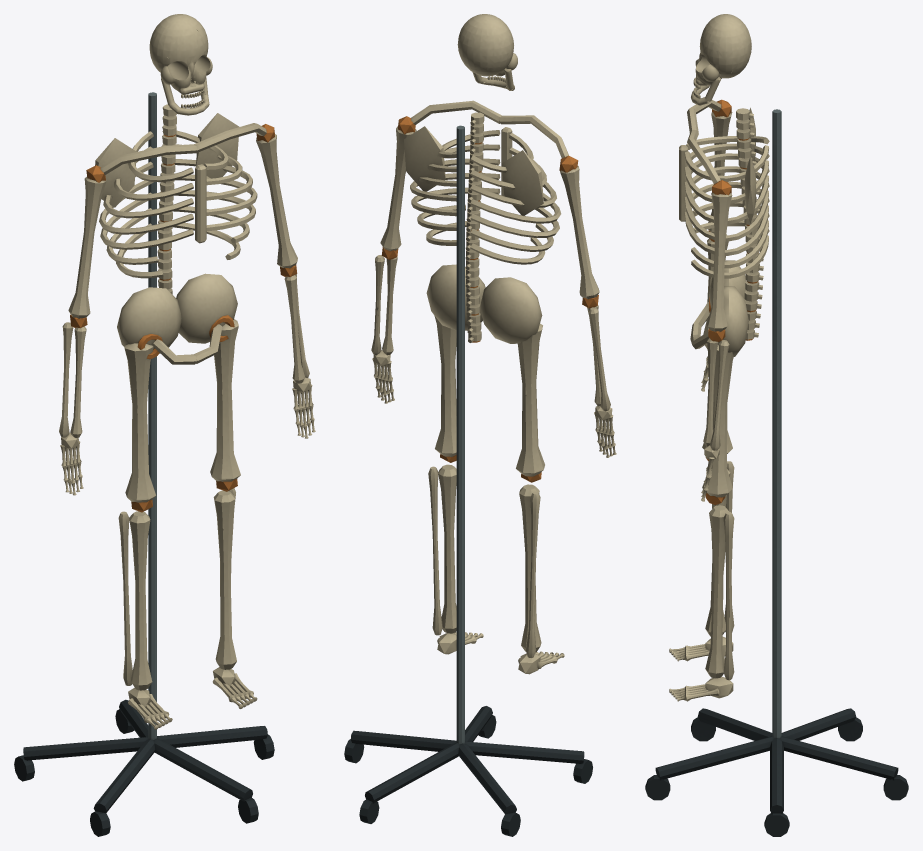
The model's file is skeleton.obj.
3 renders of one model, left to right at view 1: azimuth 30°, elevation 25°; view 2: azimuth 150°, elevation 25°; view 3: azimuth 270°, elevation 25°, orthographic. The views are drawn at different scales.
Visible parts, largest first — view 1: skeleton_torso_10, skeleton_static_0, skeleton_pelvis_9, skeleton_head_20, skeleton_shin_left_7, skeleton_thigh_left_6, skeleton_thigh_right_14, skeleton_shin_right_15, skeleton_upper_arm_left_11, skeleton_upper_arm_right_17, skeleton_forearm_left_12, skeleton_forearm_right_18 (+4 smaller); view 2: skeleton_torso_10, skeleton_static_0, skeleton_pelvis_9, skeleton_shin_right_15, skeleton_head_20, skeleton_thigh_left_6, skeleton_shin_left_7, skeleton_thigh_right_14, skeleton_upper_arm_left_11, skeleton_upper_arm_right_17, skeleton_forearm_right_18, skeleton_forearm_left_12 (+4 smaller); view 3: skeleton_static_0, skeleton_torso_10, skeleton_shin_right_15, skeleton_head_20, skeleton_pelvis_9, skeleton_upper_arm_right_17, skeleton_thigh_right_14, skeleton_forearm_right_18, skeleton_foot_right_16, skeleton_upper_arm_left_11, skeleton_shin_left_7, skeleton_foot_left_8 (+3 smaller).
Boxes of the visible parts, <box> form: skeleton_torso_10: <box>95,104,266,289</box>; skeleton_static_0: <box>23,92,267,813</box>; skeleton_pelvis_9: <box>117,273,237,364</box>; skeleton_head_20: <box>149,14,212,115</box>; skeleton_shin_left_7: <box>118,499,152,690</box>; skeleton_thigh_left_6: <box>124,343,155,502</box>; skeleton_thigh_right_14: <box>210,319,240,481</box>; skeleton_shin_right_15: <box>213,479,237,669</box>; skeleton_upper_arm_left_11: <box>68,165,106,318</box>; skeleton_upper_arm_right_17: <box>256,124,297,268</box>; skeleton_forearm_left_12: <box>59,314,87,437</box>; skeleton_forearm_right_18: <box>280,264,309,383</box>; skeleton_torso_10: <box>404,100,568,297</box>; skeleton_static_0: <box>351,125,584,814</box>; skeleton_pelvis_9: <box>426,264,542,343</box>; skeleton_shin_right_15: <box>428,454,456,635</box>; skeleton_head_20: <box>457,14,517,90</box>; skeleton_thigh_left_6: <box>516,323,544,476</box>; skeleton_shin_left_7: <box>519,472,541,657</box>; skeleton_thigh_right_14: <box>434,315,456,456</box>; skeleton_upper_arm_left_11: <box>559,155,599,299</box>; skeleton_upper_arm_right_17: <box>380,116,416,251</box>; skeleton_forearm_right_18: <box>371,247,398,355</box>; skeleton_forearm_left_12: <box>582,295,610,411</box>; skeleton_static_0: <box>655,109,898,813</box>; skeleton_torso_10: <box>679,99,769,291</box>; skeleton_shin_right_15: <box>705,493,734,679</box>; skeleton_head_20: <box>691,14,751,105</box>; skeleton_pelvis_9: <box>690,260,762,356</box>; skeleton_upper_arm_right_17: <box>706,180,732,331</box>; skeleton_thigh_right_14: <box>702,343,733,497</box>; skeleton_forearm_right_18: <box>703,329,729,450</box>; skeleton_foot_right_16: <box>669,676,733,701</box>; skeleton_upper_arm_left_11: <box>708,99,732,233</box>; skeleton_shin_left_7: <box>705,457,734,636</box>; skeleton_foot_left_8: <box>669,637,733,661</box>.
Size of the model in its own units: 0.5641 by 1.69 by 0.5255.
1 material, 1 textured.
